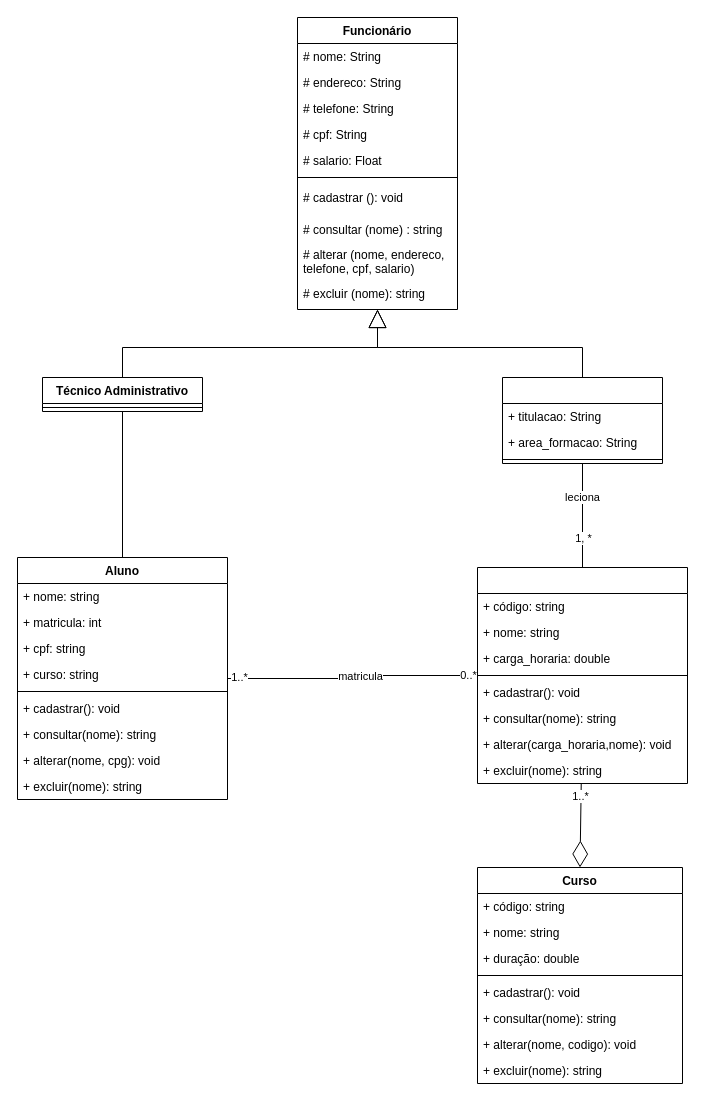
This 705x1104 diagram has some shape labels left out. Each missing label, with the box of its shape:
Disciplina: (476, 566, 688, 784)
Professor: (502, 376, 662, 464)
